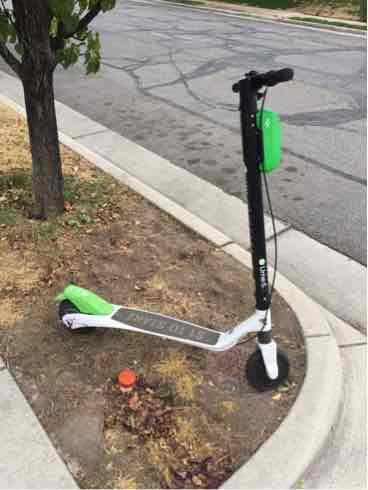scooter: (45, 59, 312, 393)
